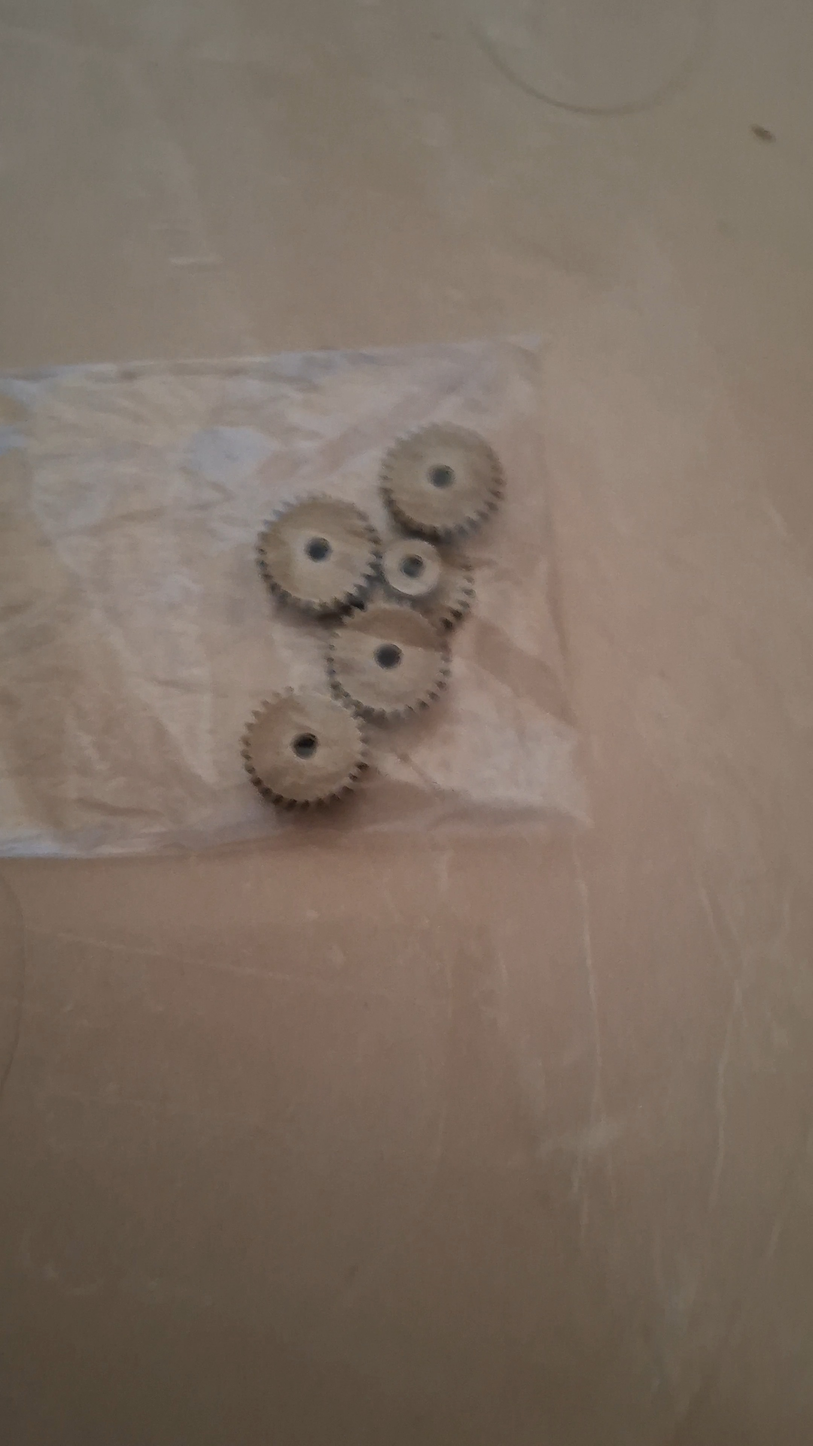spur gear: (241, 690, 366, 808), (257, 496, 380, 615), (328, 601, 450, 720), (380, 424, 502, 542), (380, 534, 475, 630)
